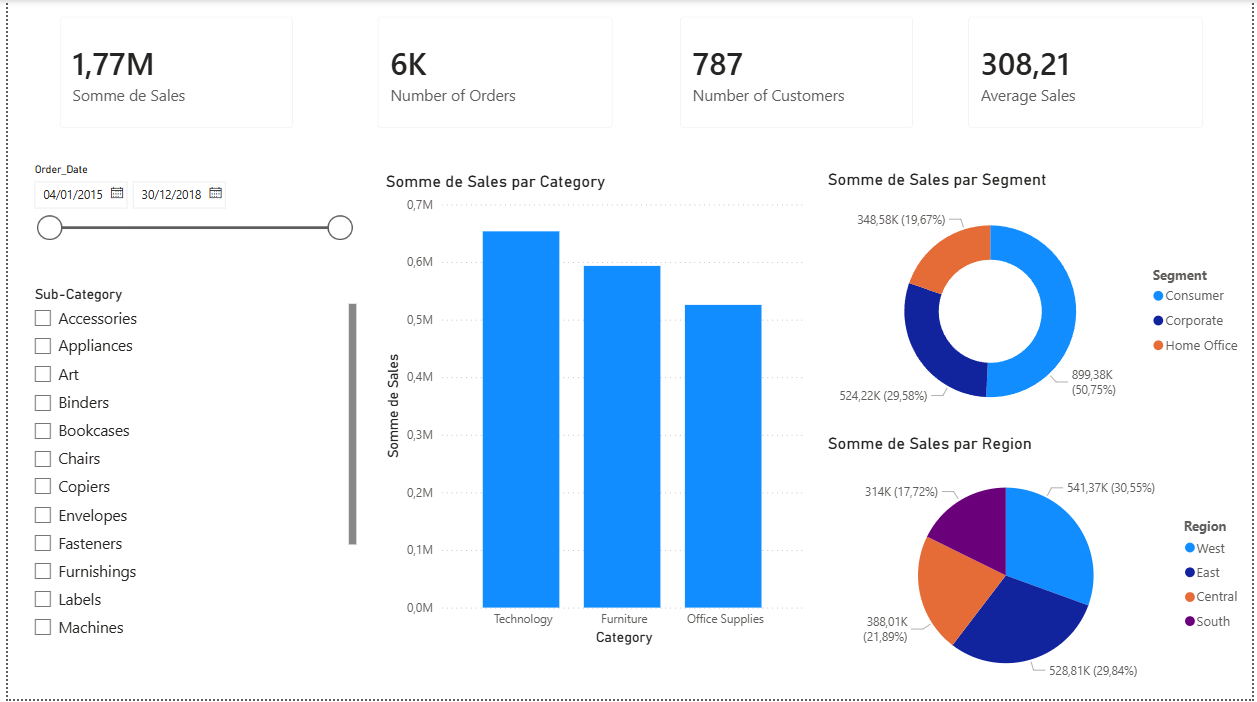

The dashboard page shown, as its layout file describes it:
{"tool":"powerbi","page":{"name":"Page 1","canvas":[1280,720],"ordinal":0},"visuals":[{"type":"cardVisual","fields":{"Data":["Sum(cleaned_Superstore.Sales)"]},"box":[36.4,0,274.8,149.8],"z":0},{"type":"cardVisual","fields":{"Data":["cleaned_Superstore.Number of Orders"]},"box":[363.5,0,276.3,149.8],"z":1000},{"type":"cardVisual","fields":{"Data":["cleaned_Superstore.Number of Customers"]},"box":[674.7,0,274.8,149.8],"z":2000},{"type":"cardVisual","fields":{"Data":["cleaned_Superstore.Average Sales"]},"box":[971.4,0,276.3,149.8],"z":3000},{"type":"columnChart","fields":{"Category":["cleaned_Superstore.Category"],"Y":["Sum(cleaned_Superstore.Sales)"]},"box":[384.3,177.1,442.9,491.4],"z":4000},{"type":"pieChart","fields":{"Category":["cleaned_Superstore.Region"],"Y":["Sum(cleaned_Superstore.Sales)"]},"box":[838.6,447.1,441.4,272.9],"z":5000},{"type":"donutChart","fields":{"Category":["cleaned_Superstore.Segment"],"Y":["Sum(cleaned_Superstore.Sales)"]},"box":[838.6,174.3,441.4,272.9],"z":6000},{"type":"slicer","fields":{"Values":["cleaned_Superstore.Order_Date"]},"box":[14.3,162.9,348.6,127.1],"z":8000},{"type":"slicer","fields":{"Values":["cleaned_Superstore.Sub-Category"]},"box":[14,290,349,378],"z":8001}]}

Visuals, with their boxes in screenshot pixels (x1, y1, x2, y2), scaled from the page's 1280x720 canvas onto the 1257x702 screenshot:
cardVisual - Sum(cleaned_Superstore.Sales): {"x1": 36, "y1": 0, "x2": 306, "y2": 146}
cardVisual - cleaned_Superstore.Number of Orders: {"x1": 357, "y1": 0, "x2": 628, "y2": 146}
cardVisual - cleaned_Superstore.Number of Customers: {"x1": 663, "y1": 0, "x2": 932, "y2": 146}
cardVisual - cleaned_Superstore.Average Sales: {"x1": 954, "y1": 0, "x2": 1225, "y2": 146}
columnChart - cleaned_Superstore.Category x Sum(cleaned_Superstore.Sales): {"x1": 377, "y1": 173, "x2": 812, "y2": 652}
pieChart - cleaned_Superstore.Region x Sum(cleaned_Superstore.Sales): {"x1": 824, "y1": 436, "x2": 1256, "y2": 701}
donutChart - cleaned_Superstore.Segment x Sum(cleaned_Superstore.Sales): {"x1": 824, "y1": 170, "x2": 1256, "y2": 436}
slicer - cleaned_Superstore.Order_Date: {"x1": 14, "y1": 159, "x2": 356, "y2": 283}
slicer - cleaned_Superstore.Sub-Category: {"x1": 14, "y1": 283, "x2": 356, "y2": 651}
